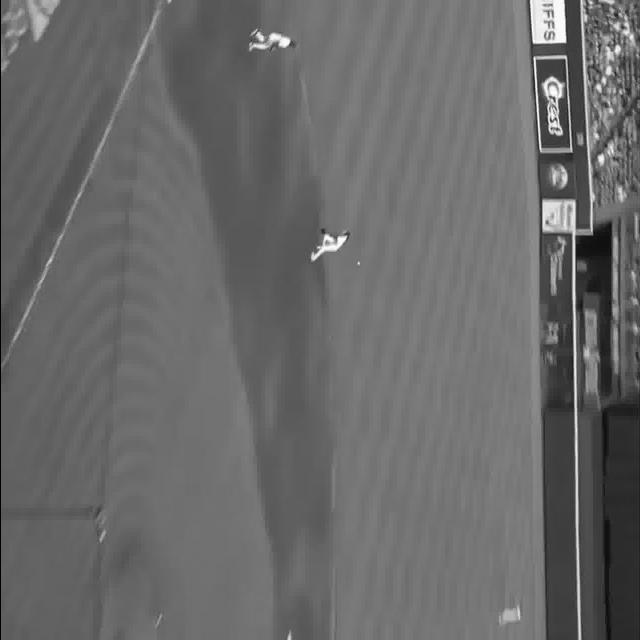base: (283, 629, 293, 640)
baseball: (356, 262, 358, 266)
baseball_glove: (319, 228, 327, 235)
shoe: (248, 26, 258, 38), (308, 250, 314, 264), (248, 42, 252, 52)
